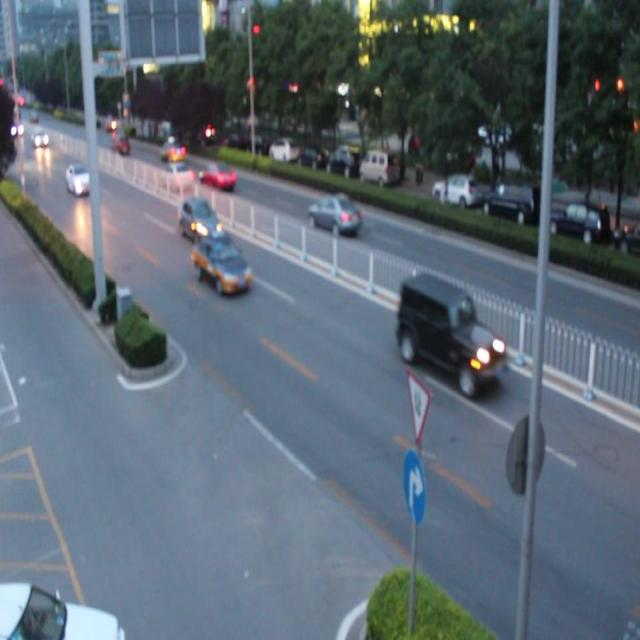car: (398, 280, 504, 388), (0, 579, 123, 640), (192, 236, 252, 291), (178, 198, 221, 242), (308, 196, 360, 232), (198, 161, 235, 189), (66, 165, 92, 194), (163, 164, 193, 188), (159, 143, 185, 163)
